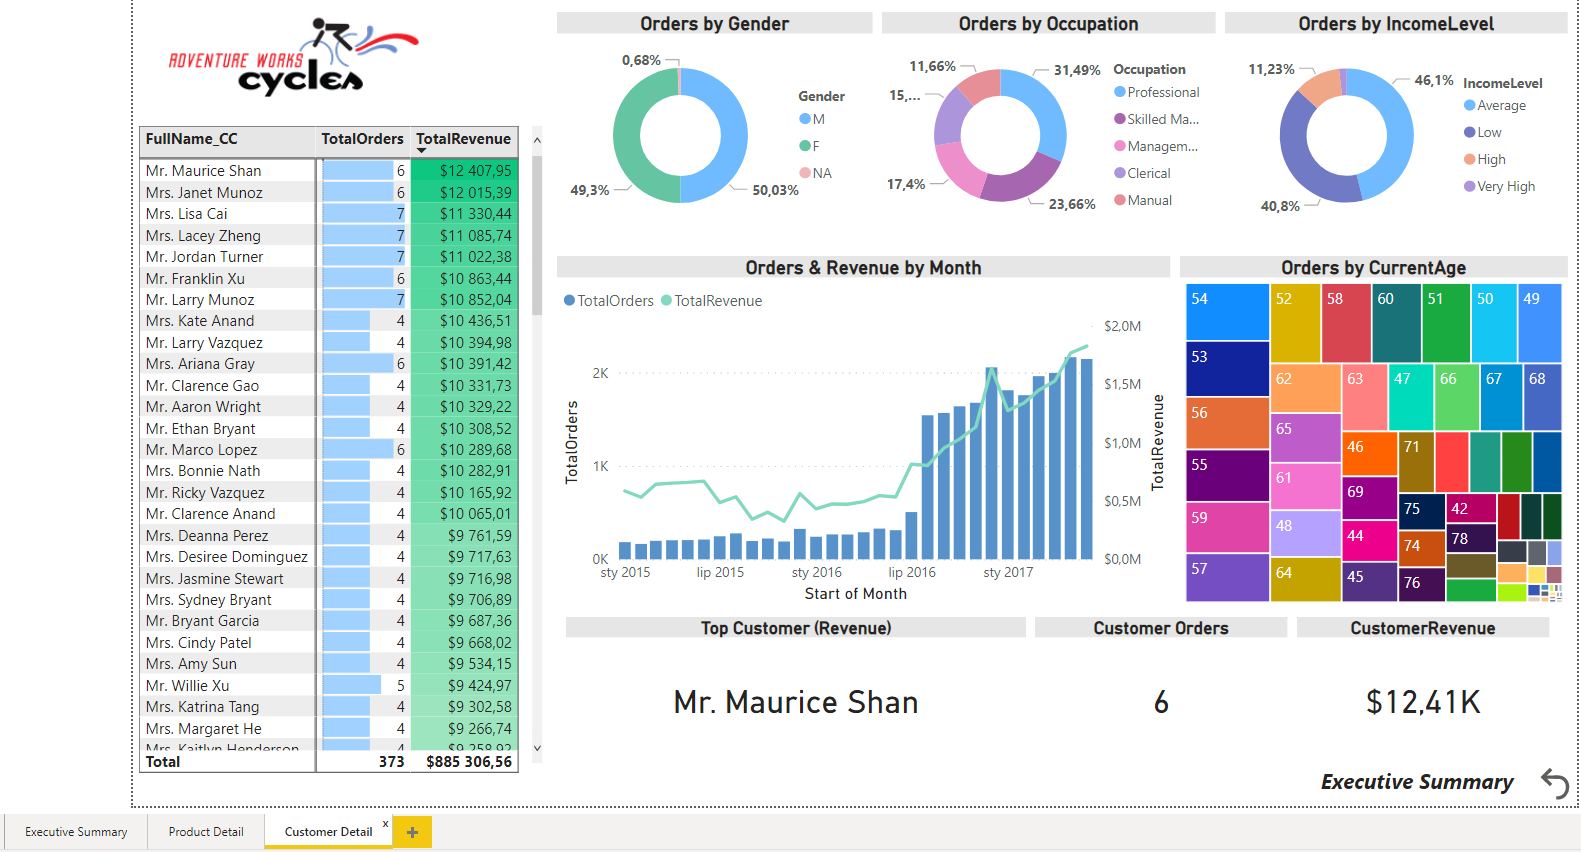

The dashboard page shown, as its layout file describes it:
{"tool":"powerbi","page":{"name":"Customer Detail","canvas":[1280,720],"ordinal":2},"visuals":[{"type":"pivotTable","title":"Top 100 Customers","fields":{"Values":["AW_Sales.TotalOrders","AW_Sales.TotalRevenue"],"Rows":["AW_Customer_Lookup.FullName_CC"]},"box":[0,112,368,584],"z":0},{"type":"donutChart","title":"Orders by Gender","fields":{"Y":["AW_Sales.TotalOrders"],"Category":["AW_Customer_Lookup.Gender"]},"box":[376,16,280,200],"z":1000},{"type":"donutChart","title":"Orders by Occupation","fields":{"Y":["AW_Sales.TotalOrders"],"Category":["AW_Customer_Lookup.Occupation"]},"box":[664,16,296,200],"z":2000},{"type":"donutChart","title":"Orders by IncomeLevel","fields":{"Y":["AW_Sales.TotalOrders"],"Category":["AW_Customer_Lookup.IncomeLevel"]},"box":[968,16,304,200],"z":3000},{"type":"lineClusteredColumnComboChart","title":"Orders & Revenue by Month","fields":{"Y":["AW_Sales.TotalOrders"],"Y2":["AW_Sales.TotalRevenue"],"Category":["AW_Calendar_Lookup.Start of Month"]},"box":[376,232,544,312],"z":4000},{"type":"image","box":[0,16,288,80],"z":5000},{"type":"treemap","title":"Orders by CurrentAge","fields":{"Values":["AW_Sales.TotalOrders"],"Group":["AW_Customer_Lookup.CurrentAge"]},"box":[928,232,344,312],"z":6000},{"type":"card","title":"Top Customer (Revenue)","fields":{"Values":["AW_Customer_Lookup.FullName_CC"]},"box":[384,552,408,128],"z":7000},{"type":"card","title":"Customer Orders","fields":{"Values":["AW_Sales.TotalOrders"]},"box":[800,552,224,128],"z":8000},{"type":"card","title":"Customer Revenue","fields":{"Values":["AW_Sales.TotalRevenue"]},"box":[1032,552,224,128],"z":9000},{"type":"textbox","box":[1048,680,192,40],"z":10000},{"type":"actionButton","box":[1032,680,248,40],"z":11000}]}

Visuals, with their boxes on the page's 1280x720 design canvas (x1, y1, x2, y2). These are canvas units, not pixel positions in the 1581x852 screenshot, which may show the page scaled, cropped or inside an application window:
"Top 100 Customers" pivotTable: 0, 112, 368, 696
"Orders by Gender" donutChart: 376, 16, 656, 216
"Orders by Occupation" donutChart: 664, 16, 960, 216
"Orders by IncomeLevel" donutChart: 968, 16, 1272, 216
"Orders & Revenue by Month" lineClusteredColumnComboChart: 376, 232, 920, 544
image: 0, 16, 288, 96
"Orders by CurrentAge" treemap: 928, 232, 1272, 544
"Top Customer (Revenue)" card: 384, 552, 792, 680
"Customer Orders" card: 800, 552, 1024, 680
"Customer Revenue" card: 1032, 552, 1256, 680
textbox: 1048, 680, 1240, 720
actionButton: 1032, 680, 1280, 720
